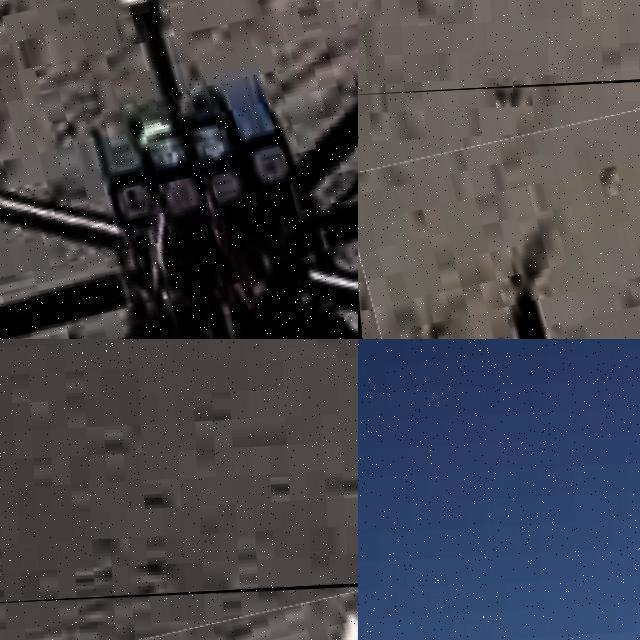drone: (0, 0, 358, 339), (358, 62, 640, 339), (0, 572, 358, 640)
